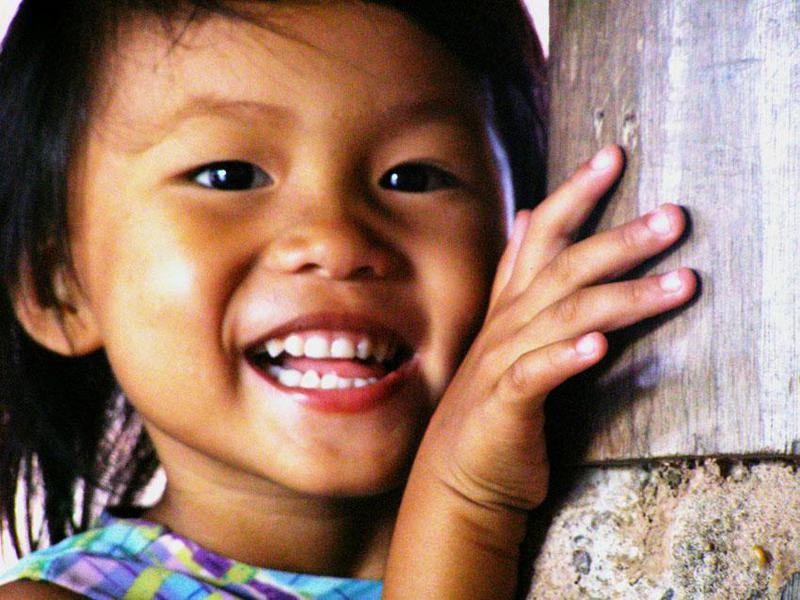person: (6, 2, 691, 600)
